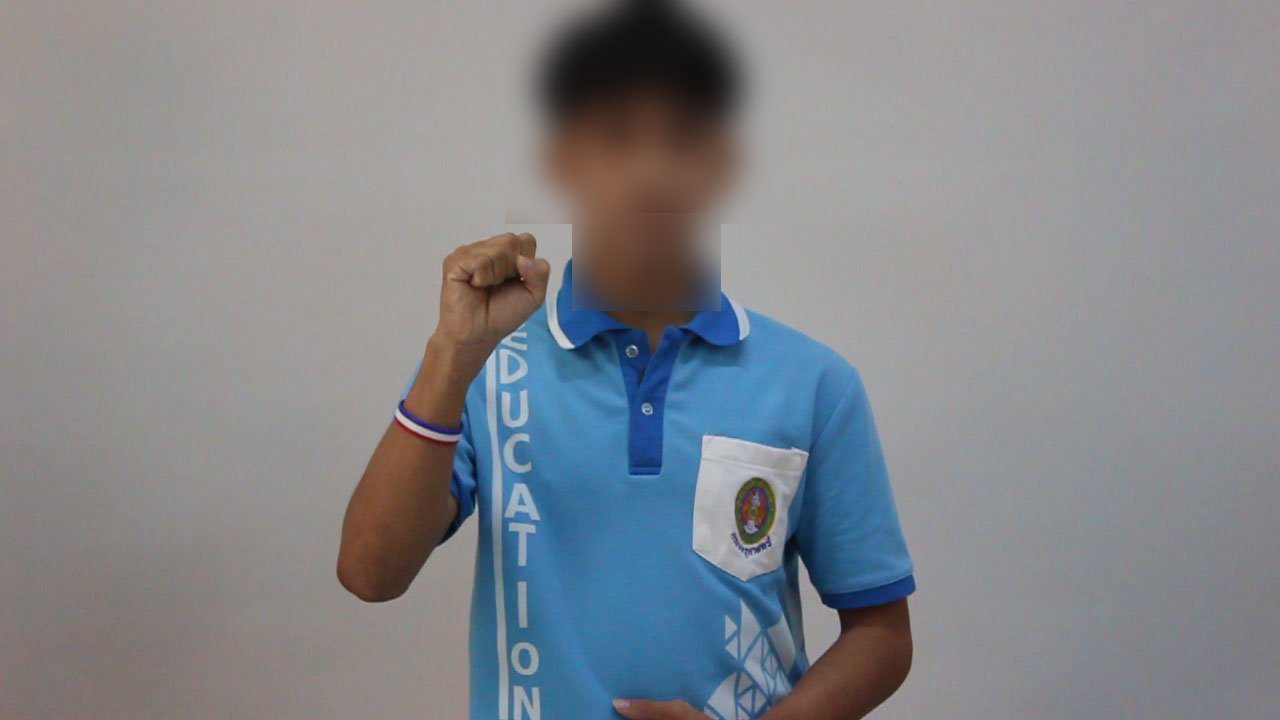sor: (424, 216, 555, 365)
